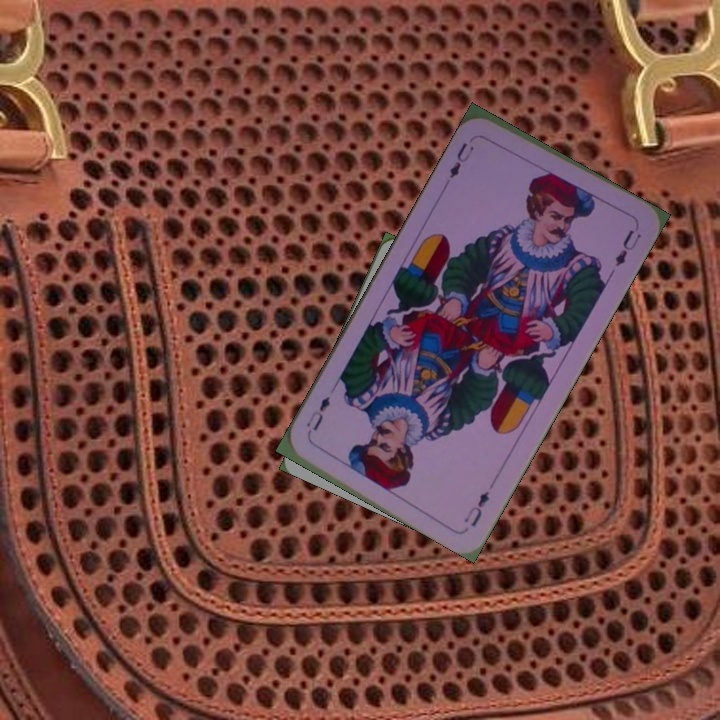EU: (459, 487, 492, 530), (445, 138, 477, 181)
